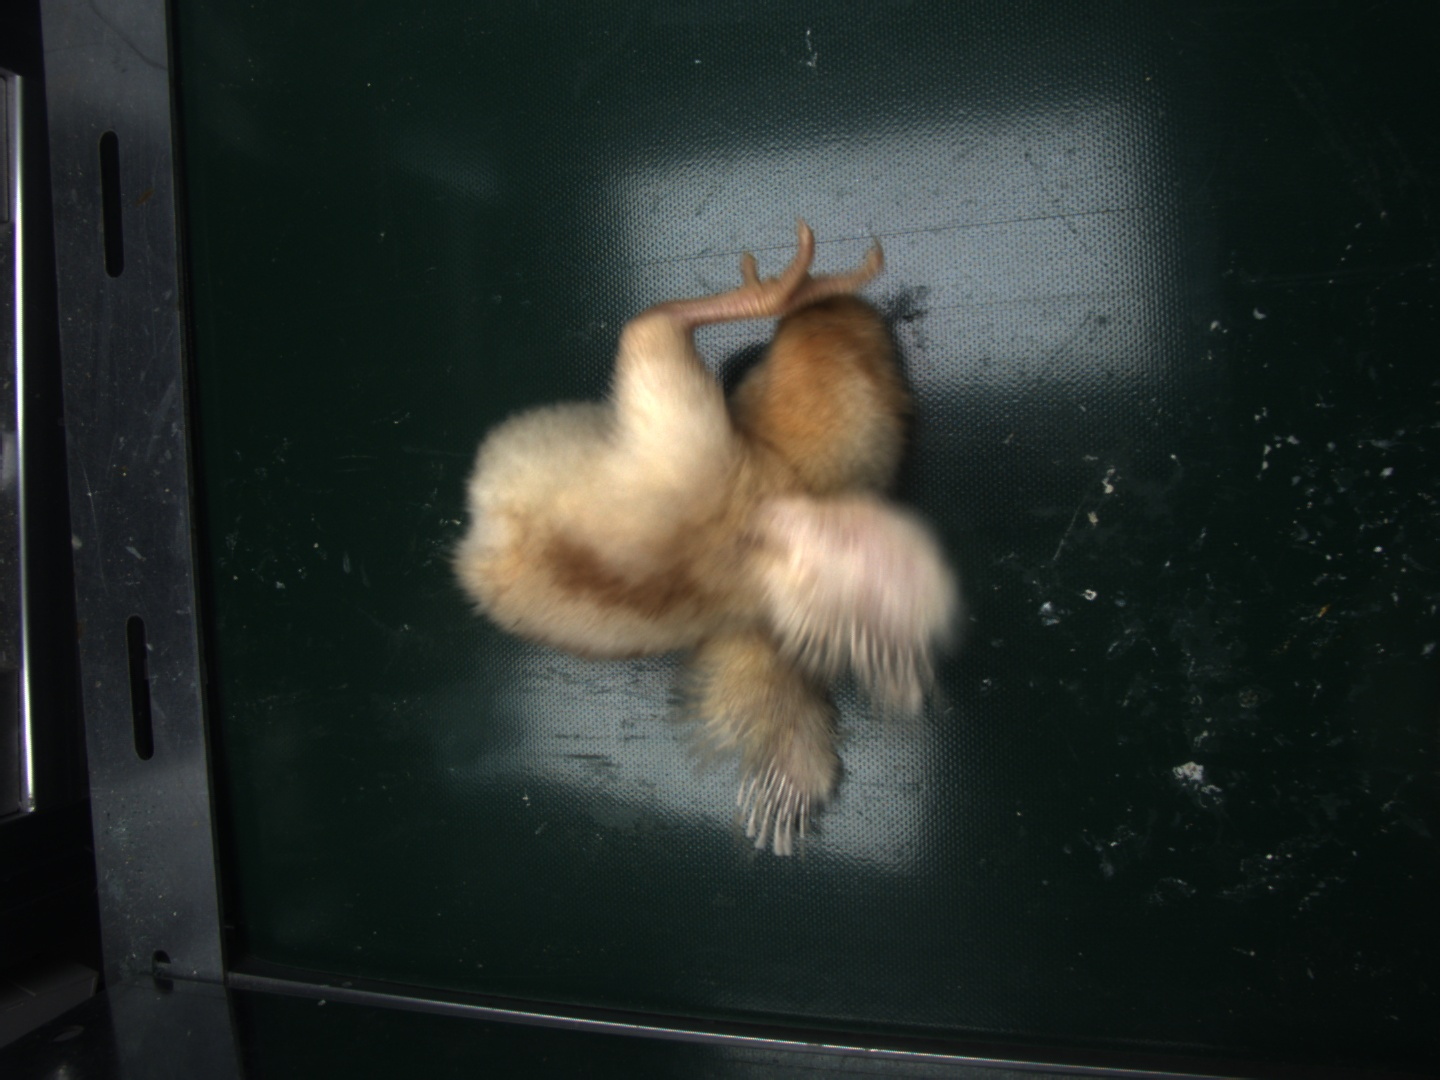female: (742, 763, 810, 857)
